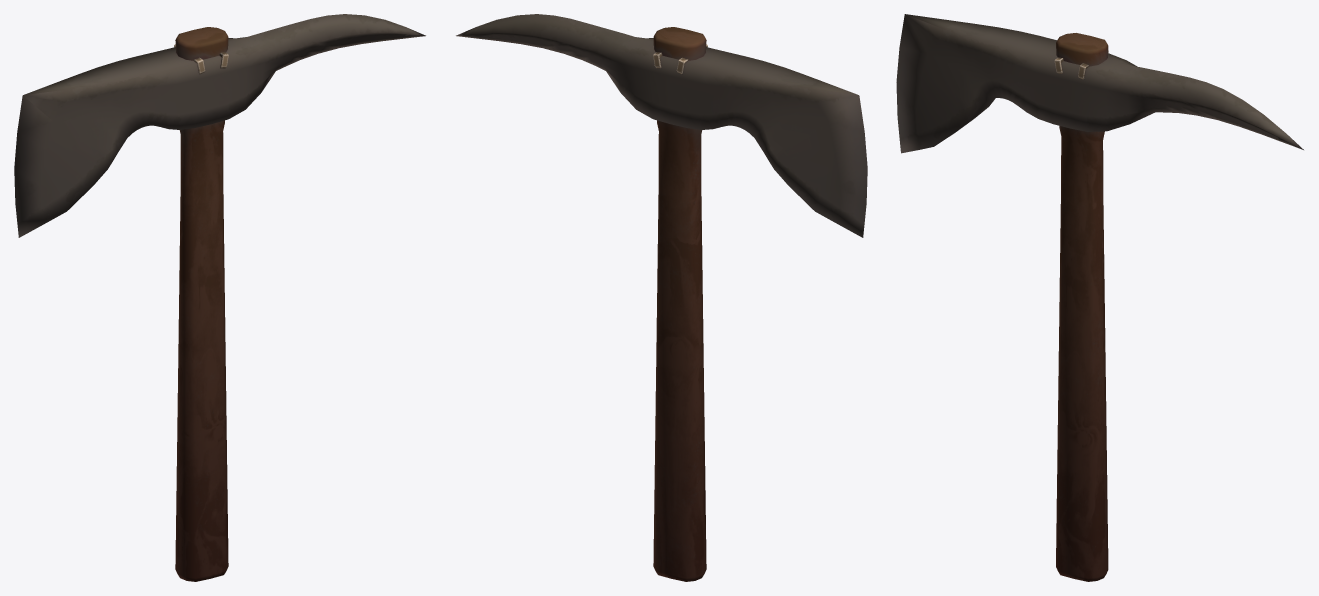
File: Pick.glb
3 renders of one model, left to right at view 1: azimuth 30°, elevation 25°; view 2: azimuth 150°, elevation 25°; view 3: azimuth 330°, elevation 25°, orthographic.
Visible parts, largest first — view 1: Pick.001; view 2: Pick.001; view 3: Pick.001.
Part boxes in pixels (box(x1,y1,x2,y2)): Pick.001: box(14, 14, 425, 581); Pick.001: box(456, 14, 867, 581); Pick.001: box(896, 14, 1303, 581).
Size of the model in its own units: 3.8 by 4.74 by 0.3839.
Materials: 1 (1 with a texture image).
